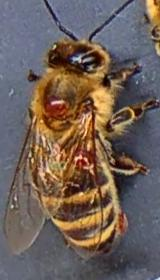varroa_mite: (41, 90, 72, 122), (66, 148, 95, 173)
